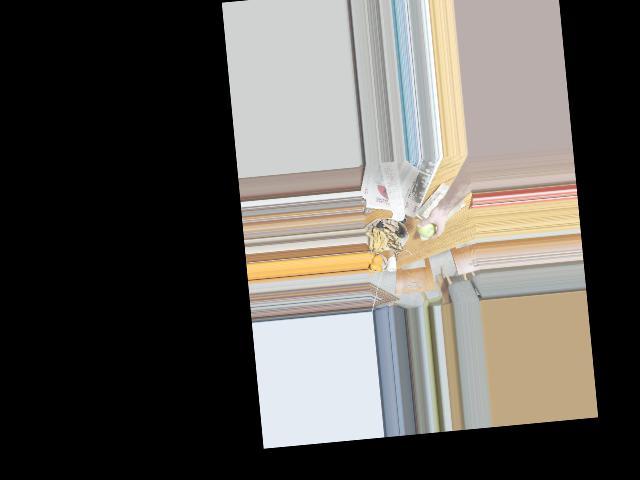apple: (416, 217, 437, 238)
